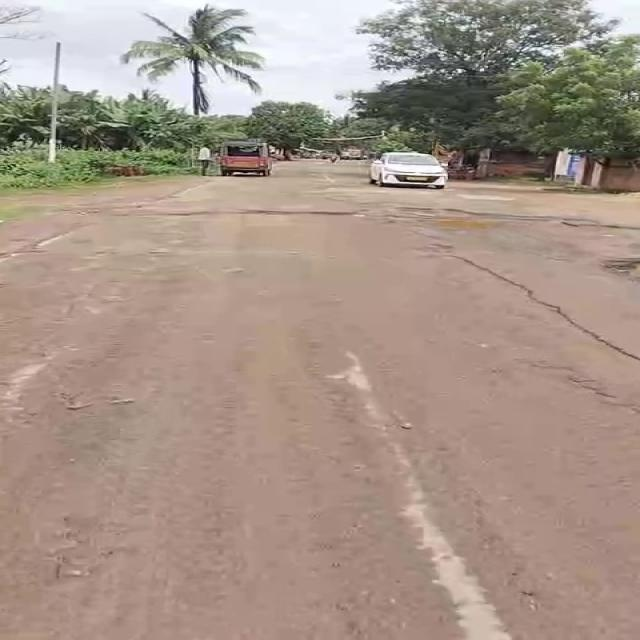pothole: (415, 213, 496, 233)
